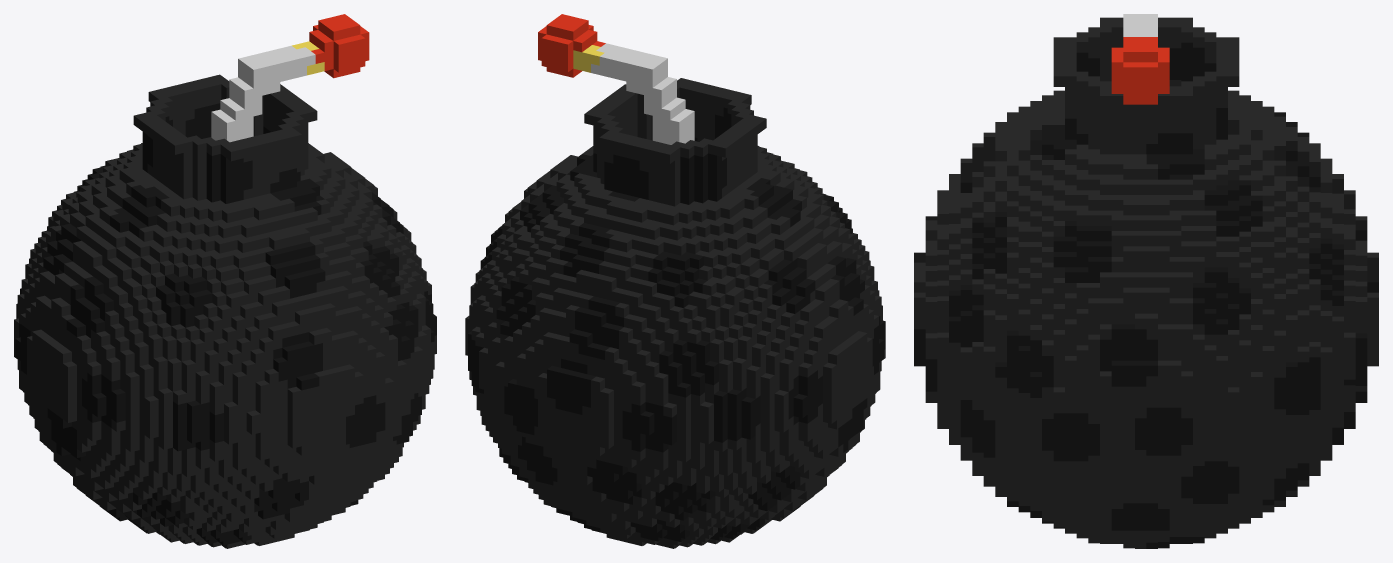
The model's file is Bomb.obj.
3 renders of one model, left to right at view 1: azimuth 30°, elevation 25°; view 2: azimuth 150°, elevation 25°; view 3: azimuth 270°, elevation 25°, orthographic. The views are drawn at different scales.
Visible parts, largest first — view 1: Bomb; view 2: Bomb; view 3: Bomb.
Boxes of the visible parts, left/top/right/bottom form: Bomb: left=14, top=14, right=436, bottom=548; Bomb: left=465, top=14, right=885, bottom=548; Bomb: left=914, top=14, right=1378, bottom=548.
Bounding box in the file's own units: 40 × 51 × 40.
1 material, 1 textured.
